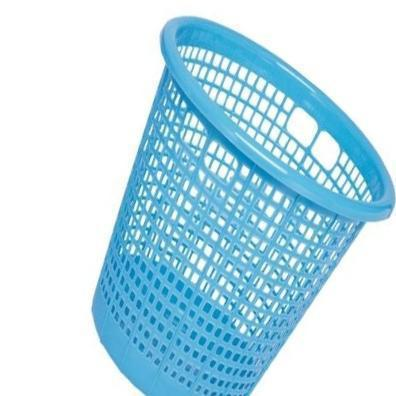Bote de Basura: (87, 20, 395, 395)
